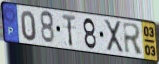0: (20, 9, 38, 43)
8: (39, 10, 56, 46), (82, 17, 97, 50)
R: (122, 22, 145, 56)
T: (61, 13, 77, 48)
X: (103, 19, 125, 54)
